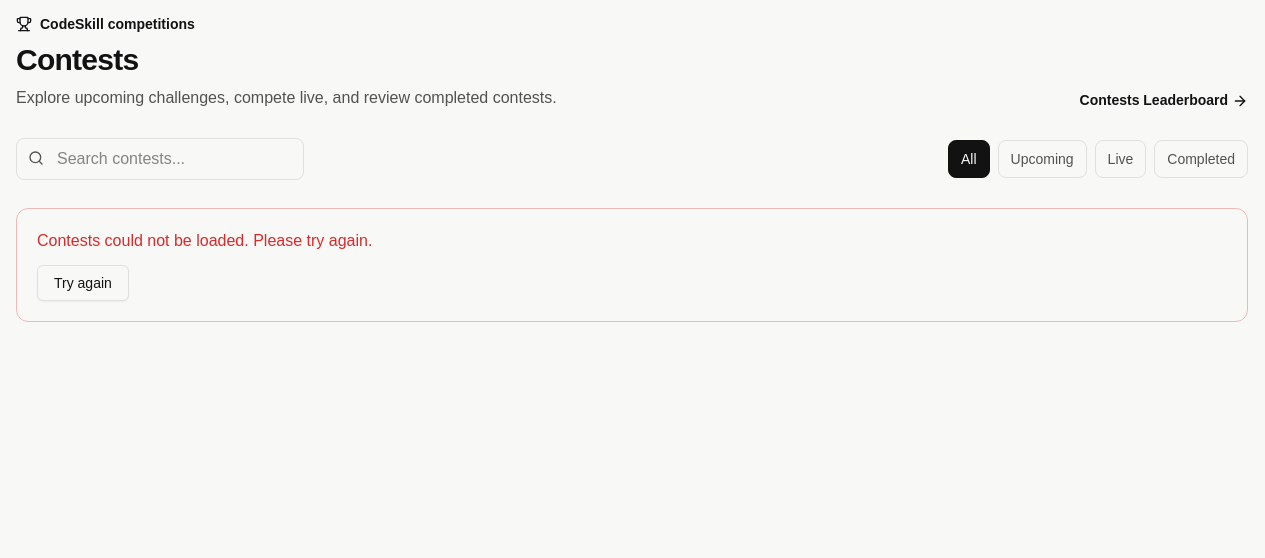
Test: shows a recoverable API error without fake empty results
Expected: the message "Contests could not be loaded. Please try again. Try again" is shown, [16,208,1248,322]
Click the button "Try again" at [83, 283], box [37,265,129,301]
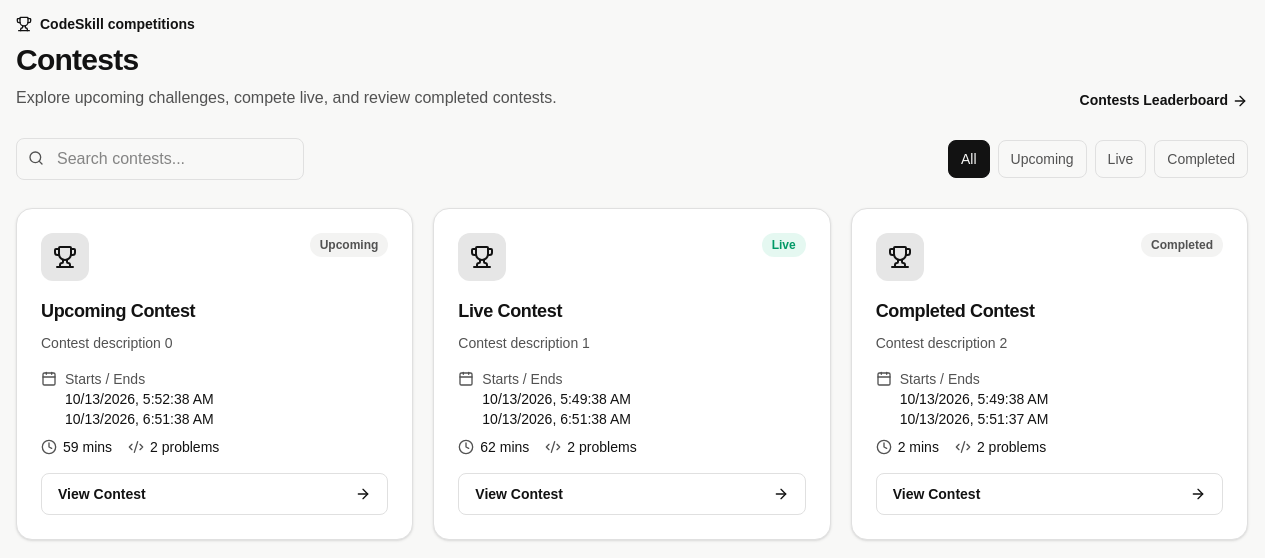
Expected: the heading "Live Contest" is shown, [458,301,562,321]
